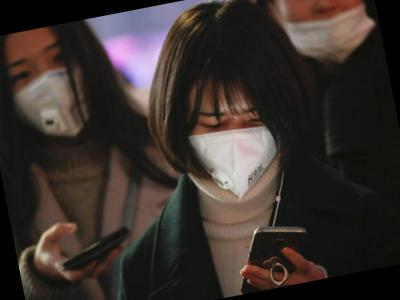with_mask: (179, 85, 292, 205)
